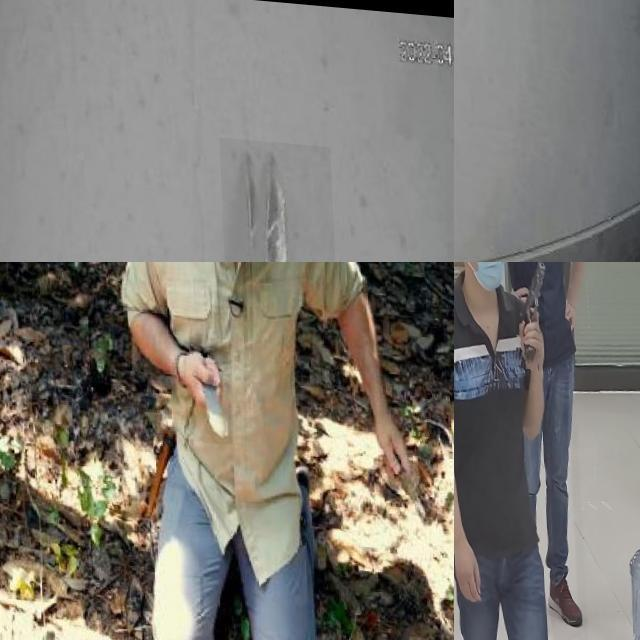-: (454, 0, 522, 262), (217, 131, 346, 262), (181, 340, 230, 440)
gun-knife-thesis - v11 Yolov5 augmented: (512, 262, 545, 365)
